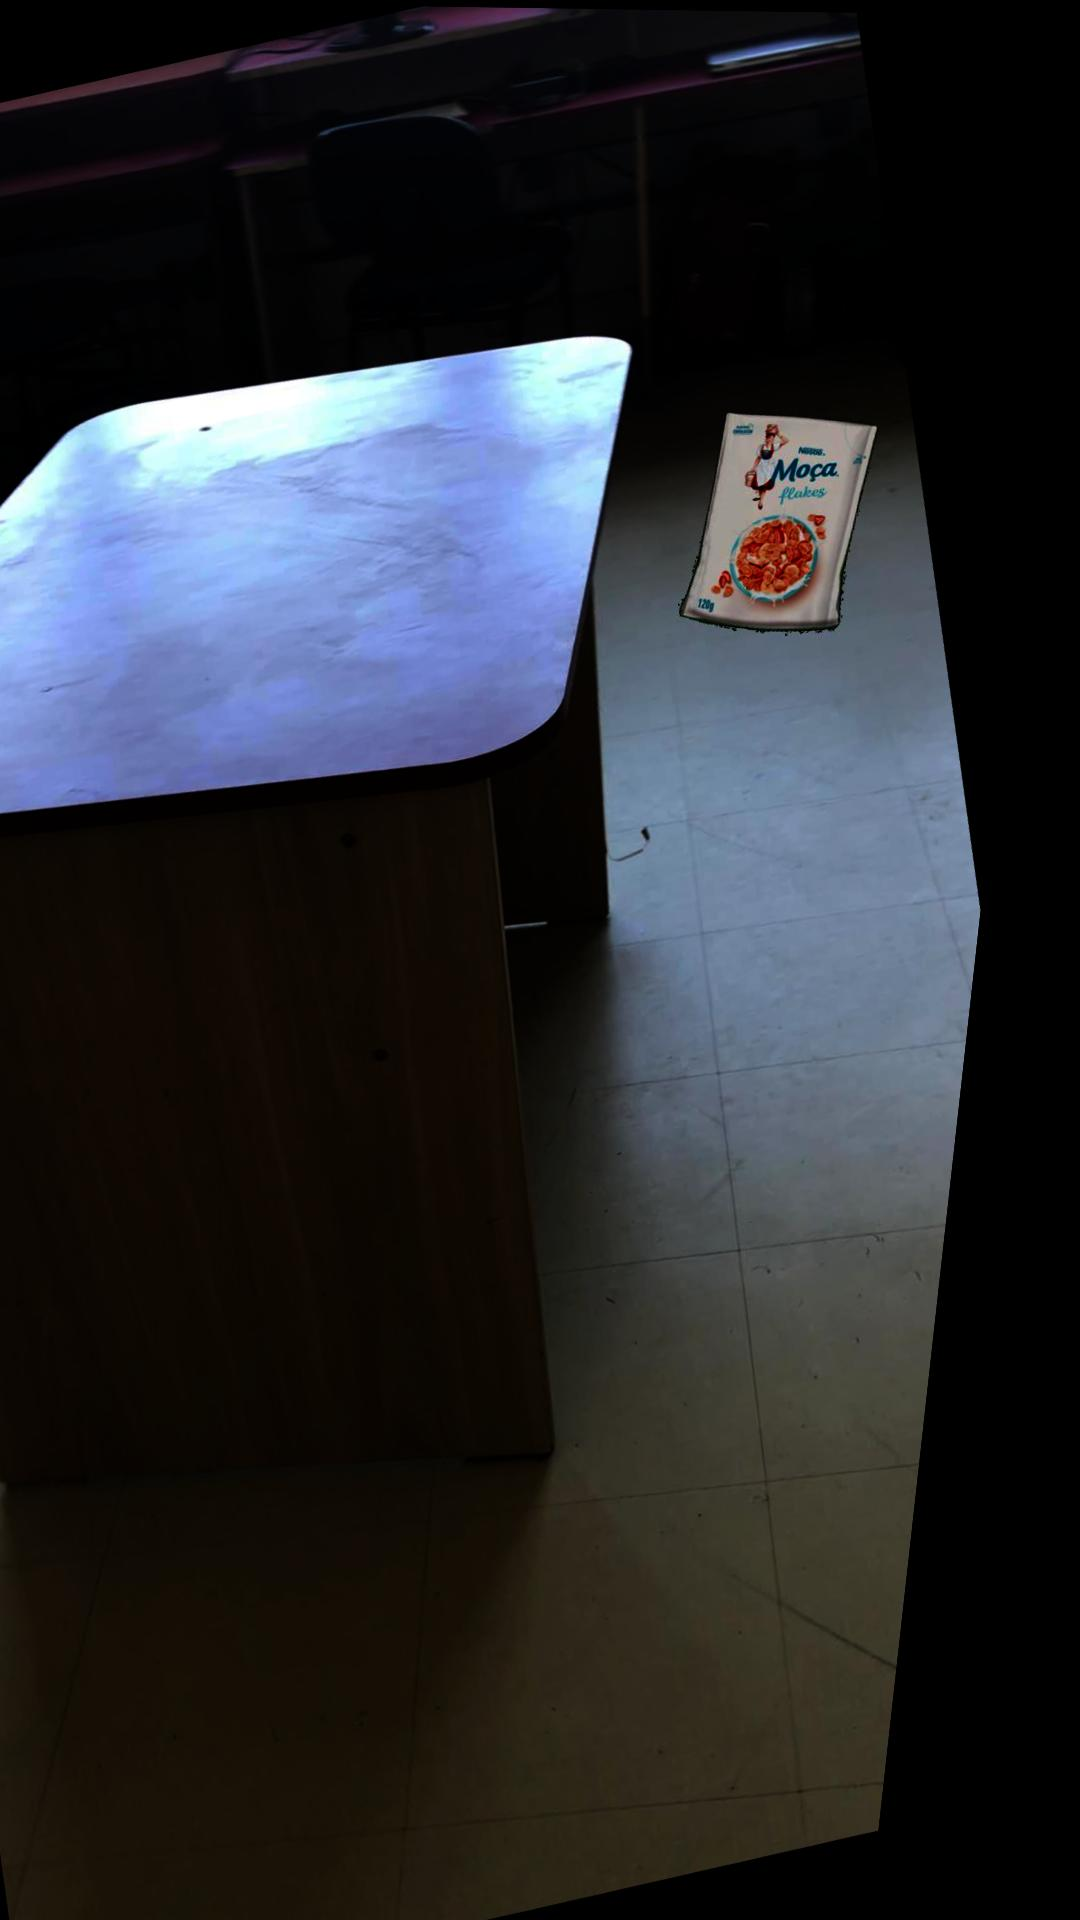corn flakes: (695, 407, 890, 629)
